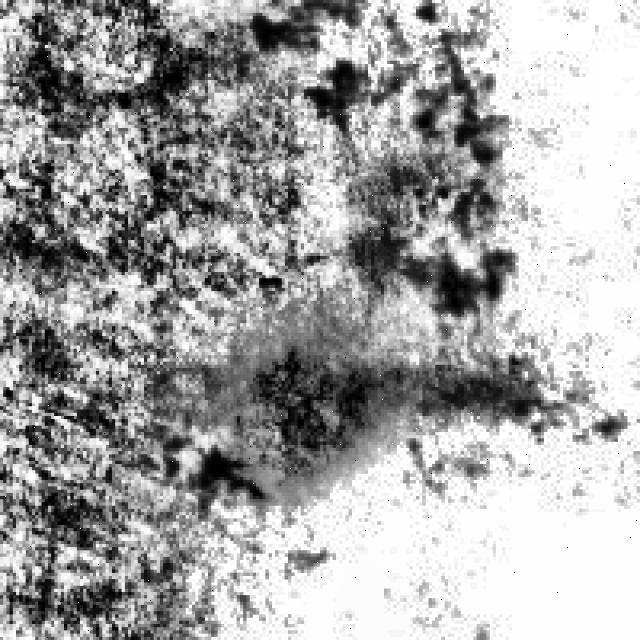Scratches: (233, 316, 420, 506)
